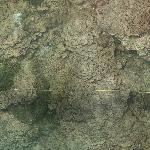dead: (6, 7, 148, 145)
